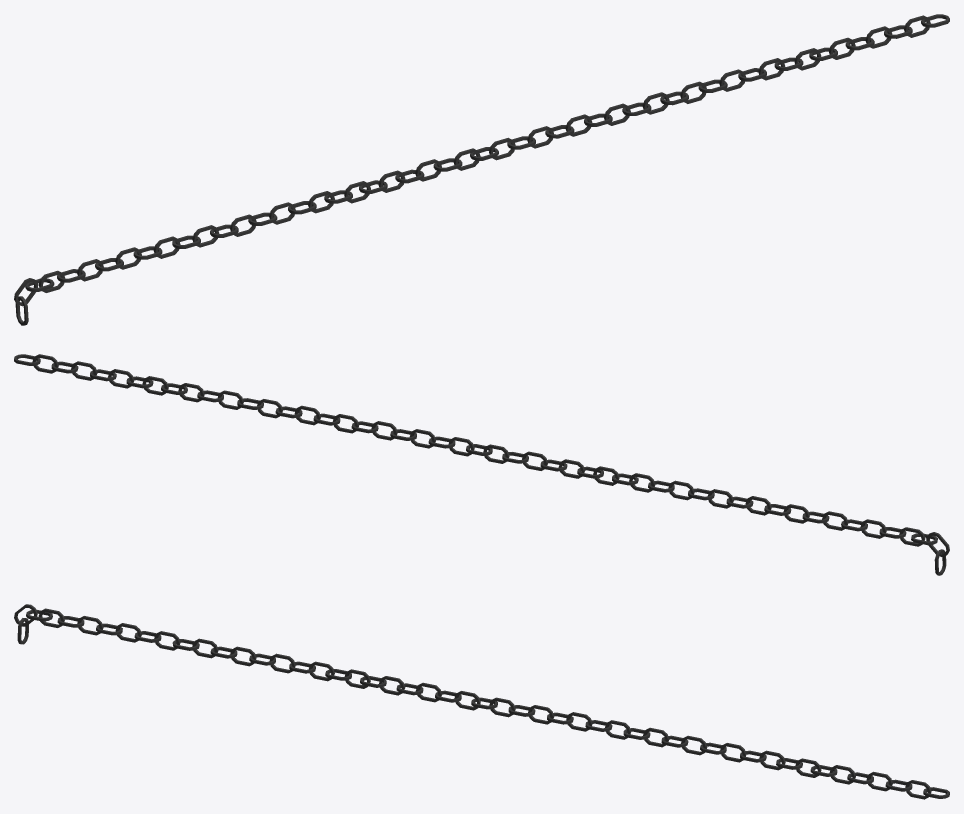
3 renders of one model, top to bottom at view 1: azimuth 30°, elevation 25°; view 2: azimuth 150°, elevation 25°; view 3: azimuth 330°, elevation 25°, orthographic. The views are drawn at different scales.
Visible parts, largest first — view 1: C_S_5; view 2: C_S_5; view 3: C_S_5.
Part boxes in pixels (x1,y1,x2,y2): C_S_5: [14, 14, 949, 325]; C_S_5: [14, 354, 949, 575]; C_S_5: [14, 604, 949, 799].
Bounding box in the file's own units: 185 × 8.14 × 18.32.
Materials: 1 (1 with a texture image).
